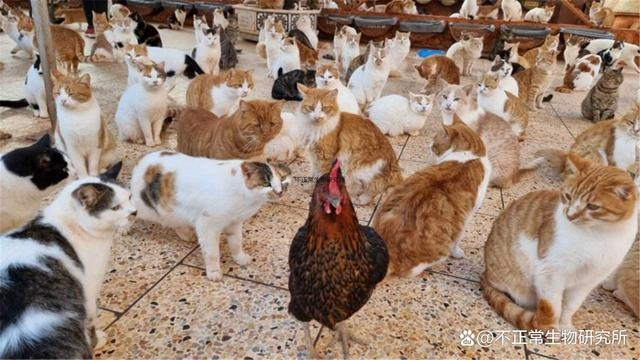cat: (482, 153, 640, 340), (1, 157, 136, 360), (115, 147, 301, 281), (372, 113, 491, 279), (295, 81, 404, 206), (436, 78, 543, 187), (538, 105, 640, 183), (48, 66, 118, 179), (175, 97, 283, 161), (1, 133, 70, 232), (16, 14, 106, 75), (114, 60, 169, 147), (474, 73, 530, 142), (112, 40, 204, 81), (185, 64, 257, 114), (1, 53, 55, 119), (364, 89, 437, 137), (347, 42, 394, 103), (314, 60, 361, 113), (581, 66, 624, 123), (576, 36, 640, 73), (413, 54, 462, 94), (556, 53, 603, 93), (189, 26, 223, 76), (121, 41, 159, 85), (271, 66, 317, 102), (379, 30, 412, 78), (445, 36, 484, 76), (523, 32, 561, 70), (264, 19, 287, 80), (91, 9, 118, 56), (333, 22, 358, 65), (595, 38, 625, 71), (279, 35, 302, 74), (340, 31, 363, 69), (588, 1, 615, 29), (158, 4, 187, 30), (447, 1, 481, 20), (523, 4, 555, 24), (193, 12, 212, 42), (501, 1, 522, 22), (212, 8, 232, 29)
